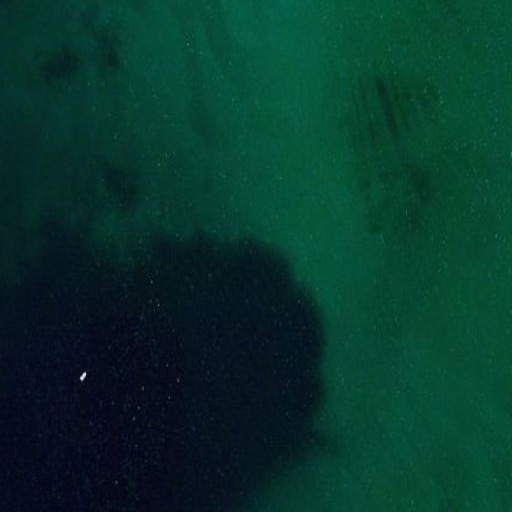ship: (78, 369, 89, 382)
